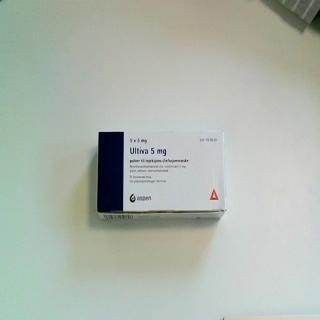ultiva5mg: (96, 128, 229, 224)
